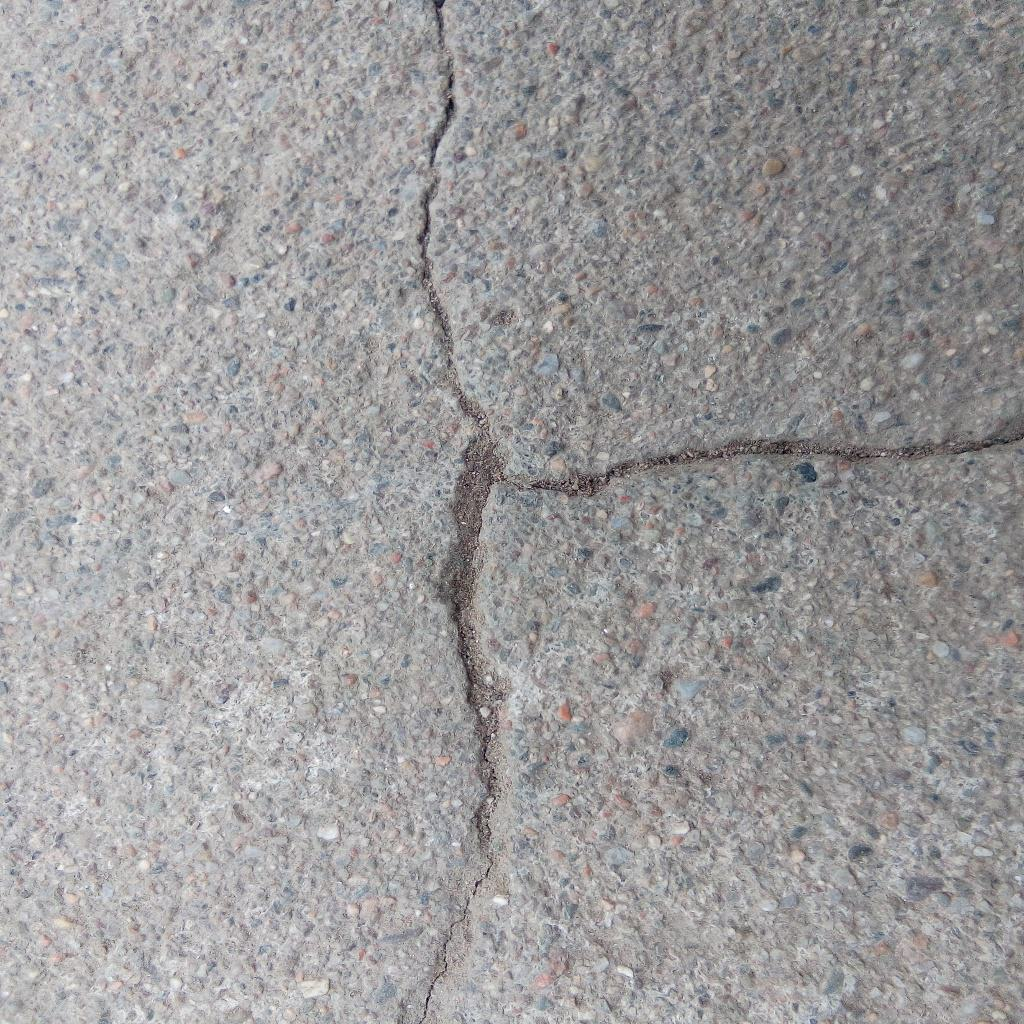Crack: (416, 1, 507, 1024), (507, 417, 1024, 501)
